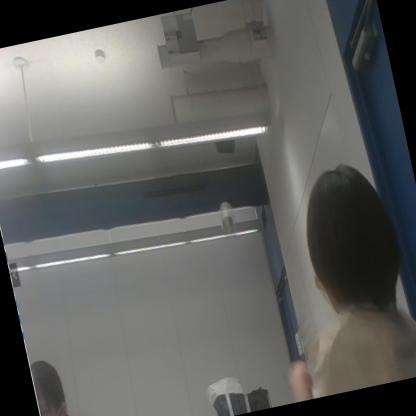ball: (221, 212, 236, 234)
